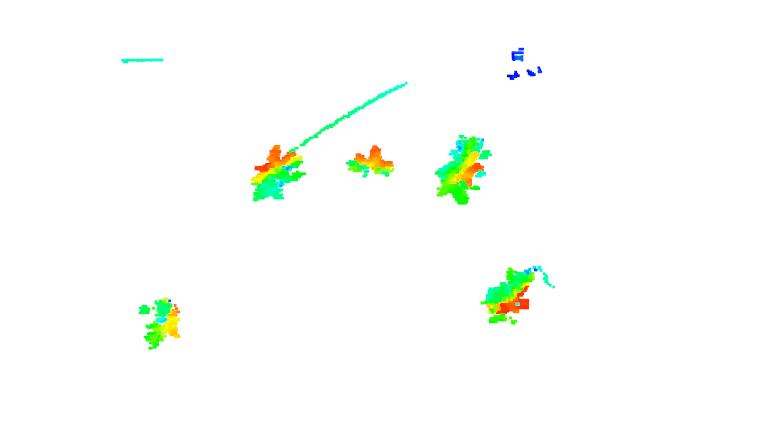chickpea: (433, 129, 494, 204), (479, 264, 549, 324), (250, 136, 307, 203), (134, 293, 185, 349), (344, 140, 400, 180)
